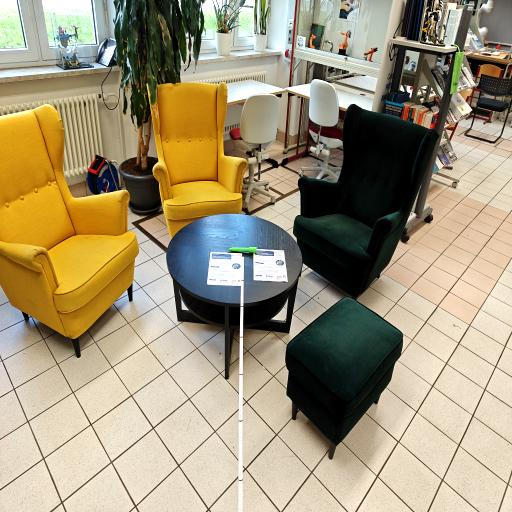Probe-Detection: (229, 246, 257, 253)
